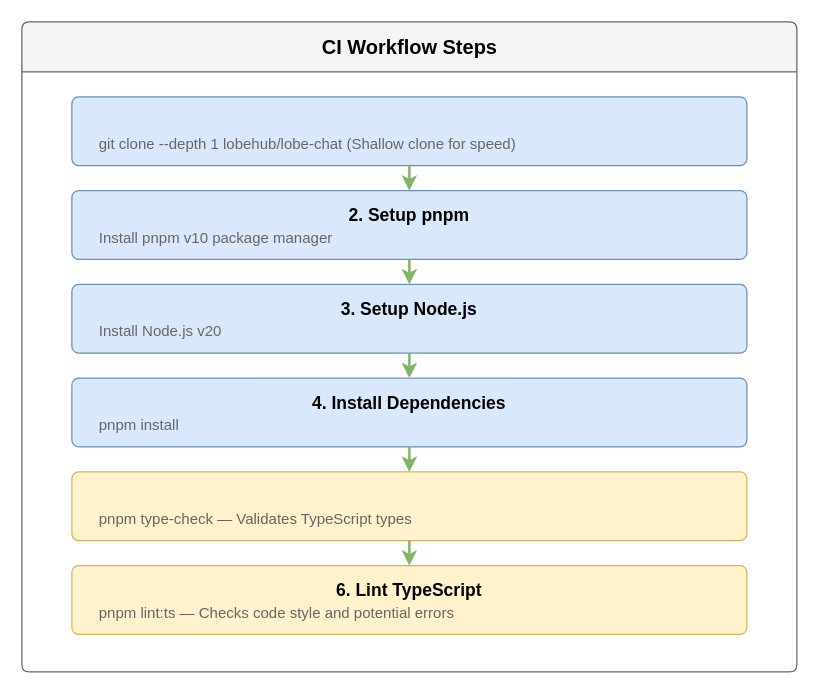
Some shapes in this 819 by 694 pixel diagram are drawn without their labels. Here are the shapes that lost their labels. From the top down, the box of each, then its label:
(71, 96, 747, 166): 1. Clone LobeChat
(71, 471, 747, 541): 5. Type Check
